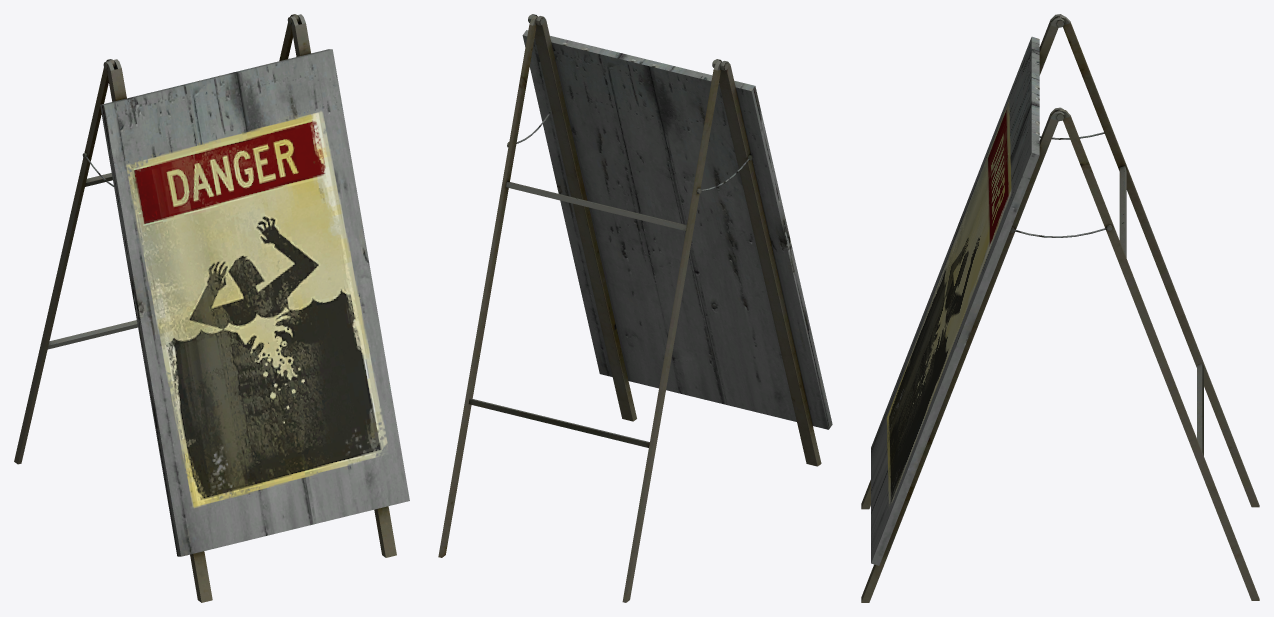
The model's file is sign.glb.
The picture shows the model from 3 angles, left to right: view 1: azimuth 30°, elevation 25°; view 2: azimuth 150°, elevation 25°; view 3: azimuth 270°, elevation 25°; orthographic projection. The views are drawn at different scales.
Visible parts, largest first — view 1: paint_caution_sign; view 2: paint_caution_sign; view 3: paint_caution_sign.
Part boxes in pixels (<box>): paint_caution_sign: <box>14,14,409,602</box>; paint_caution_sign: <box>438,14,832,602</box>; paint_caution_sign: <box>861,14,1259,602</box>.
Size of the model in its own units: 0.5083 by 1 by 0.7367.
1 material, 1 textured.
